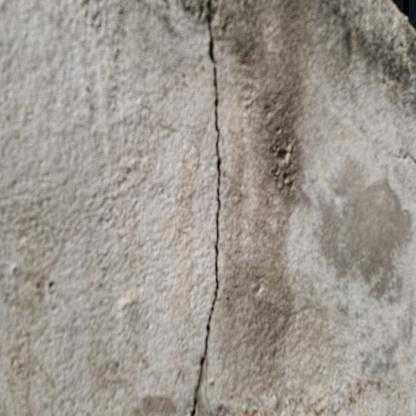crack: (190, 1, 222, 415)
